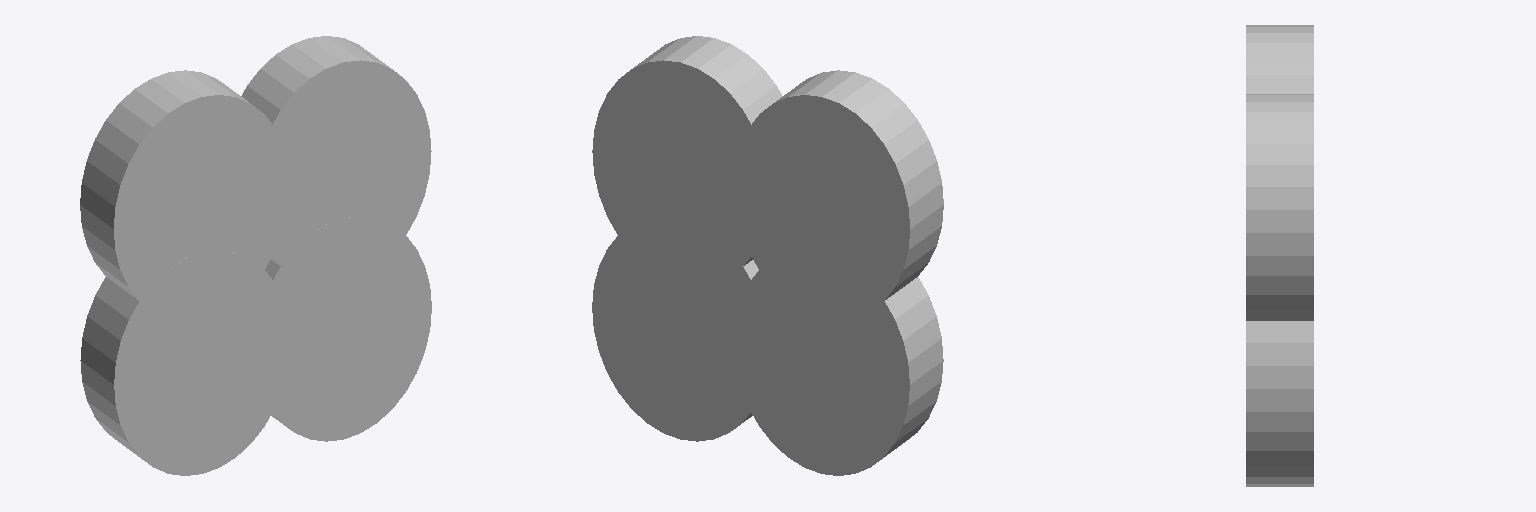
File: cyl_cyl_cyl_cyl.obj
3 renders of one model, left to right at view 1: azimuth 30°, elevation 25°; view 2: azimuth 150°, elevation 25°; view 3: azimuth 270°, elevation 25°, orthographic.
Visible parts, largest first — view 1: Cylinder.001_Cylinder.002; view 2: Cylinder.001_Cylinder.002; view 3: Cylinder.001_Cylinder.002.
Part boxes in pixels (x1,y1,x2,y2): Cylinder.001_Cylinder.002: (80, 36, 431, 475); Cylinder.001_Cylinder.002: (592, 36, 943, 475); Cylinder.001_Cylinder.002: (1246, 25, 1313, 486).
Bounding box in the file's own units: 2.31 × 2.62 × 0.4237.